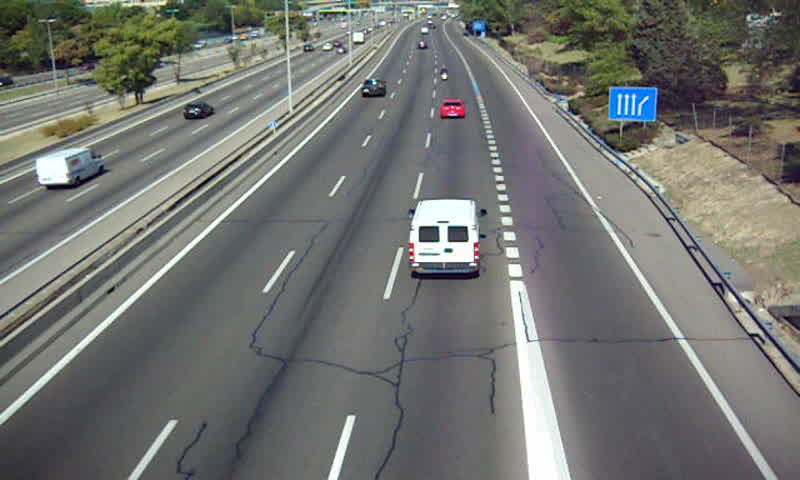car: (439, 100, 466, 120), (359, 79, 386, 97)
motorcycle: (438, 66, 450, 80)
van: (409, 199, 480, 275)
